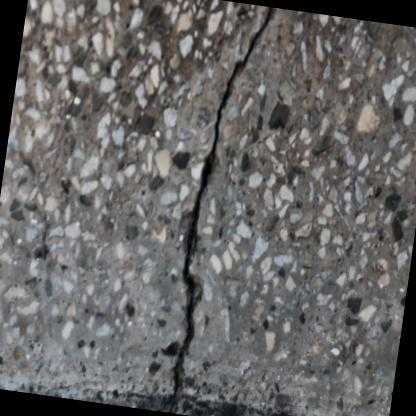crack: (167, 6, 273, 411)
